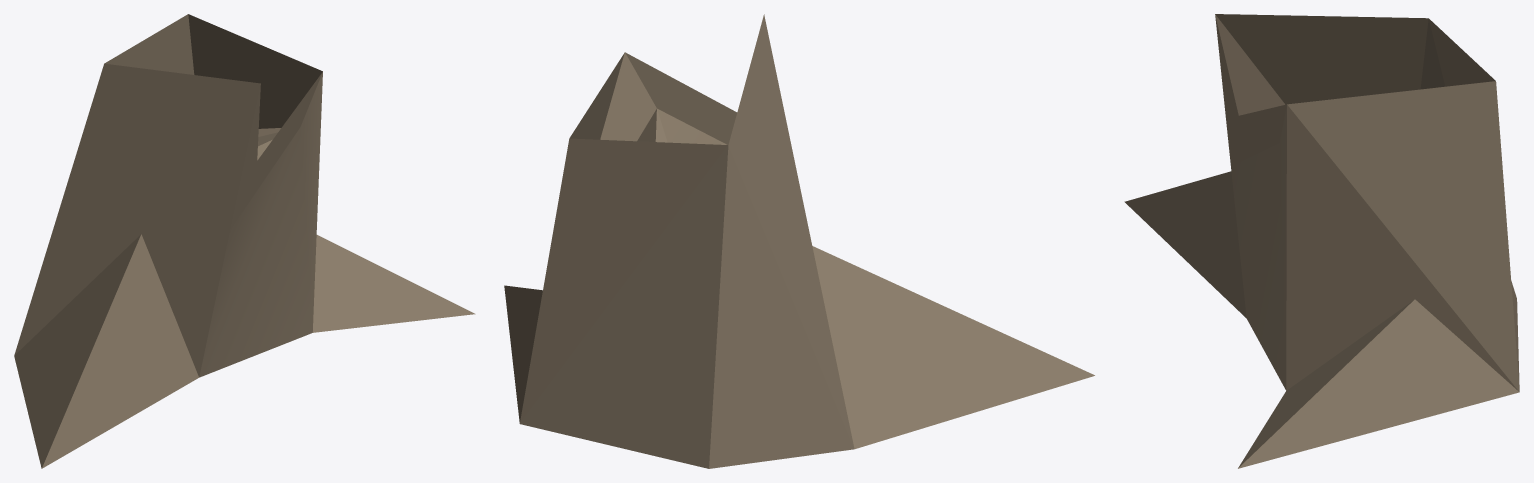
File: Tree_Stump_03.fbx
3 views of the same model, side by side, from view 1: azimuth 30°, elevation 25°; view 2: azimuth 150°, elevation 25°; view 3: azimuth 270°, elevation 25° (orthographic). The views are drawn at different scales.
Visible parts, largest first — view 1: Tree_Stump_03; view 2: Tree_Stump_03; view 3: Tree_Stump_03.
Part boxes in pixels (x1=…): Tree_Stump_03: x1=14, y1=14, x2=475, y2=468; Tree_Stump_03: x1=504, y1=14, x2=1094, y2=468; Tree_Stump_03: x1=1124, y1=14, x2=1519, y2=468.
Size of the model in its own units: 36.39 by 21.02 by 22.77.
